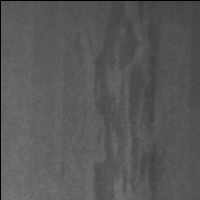inclusion: (91, 2, 163, 200)
